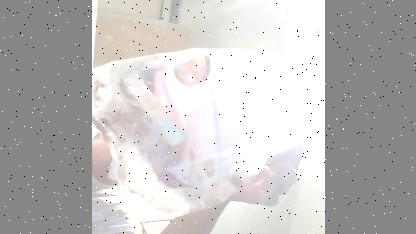Others: (91, 46, 312, 216)
